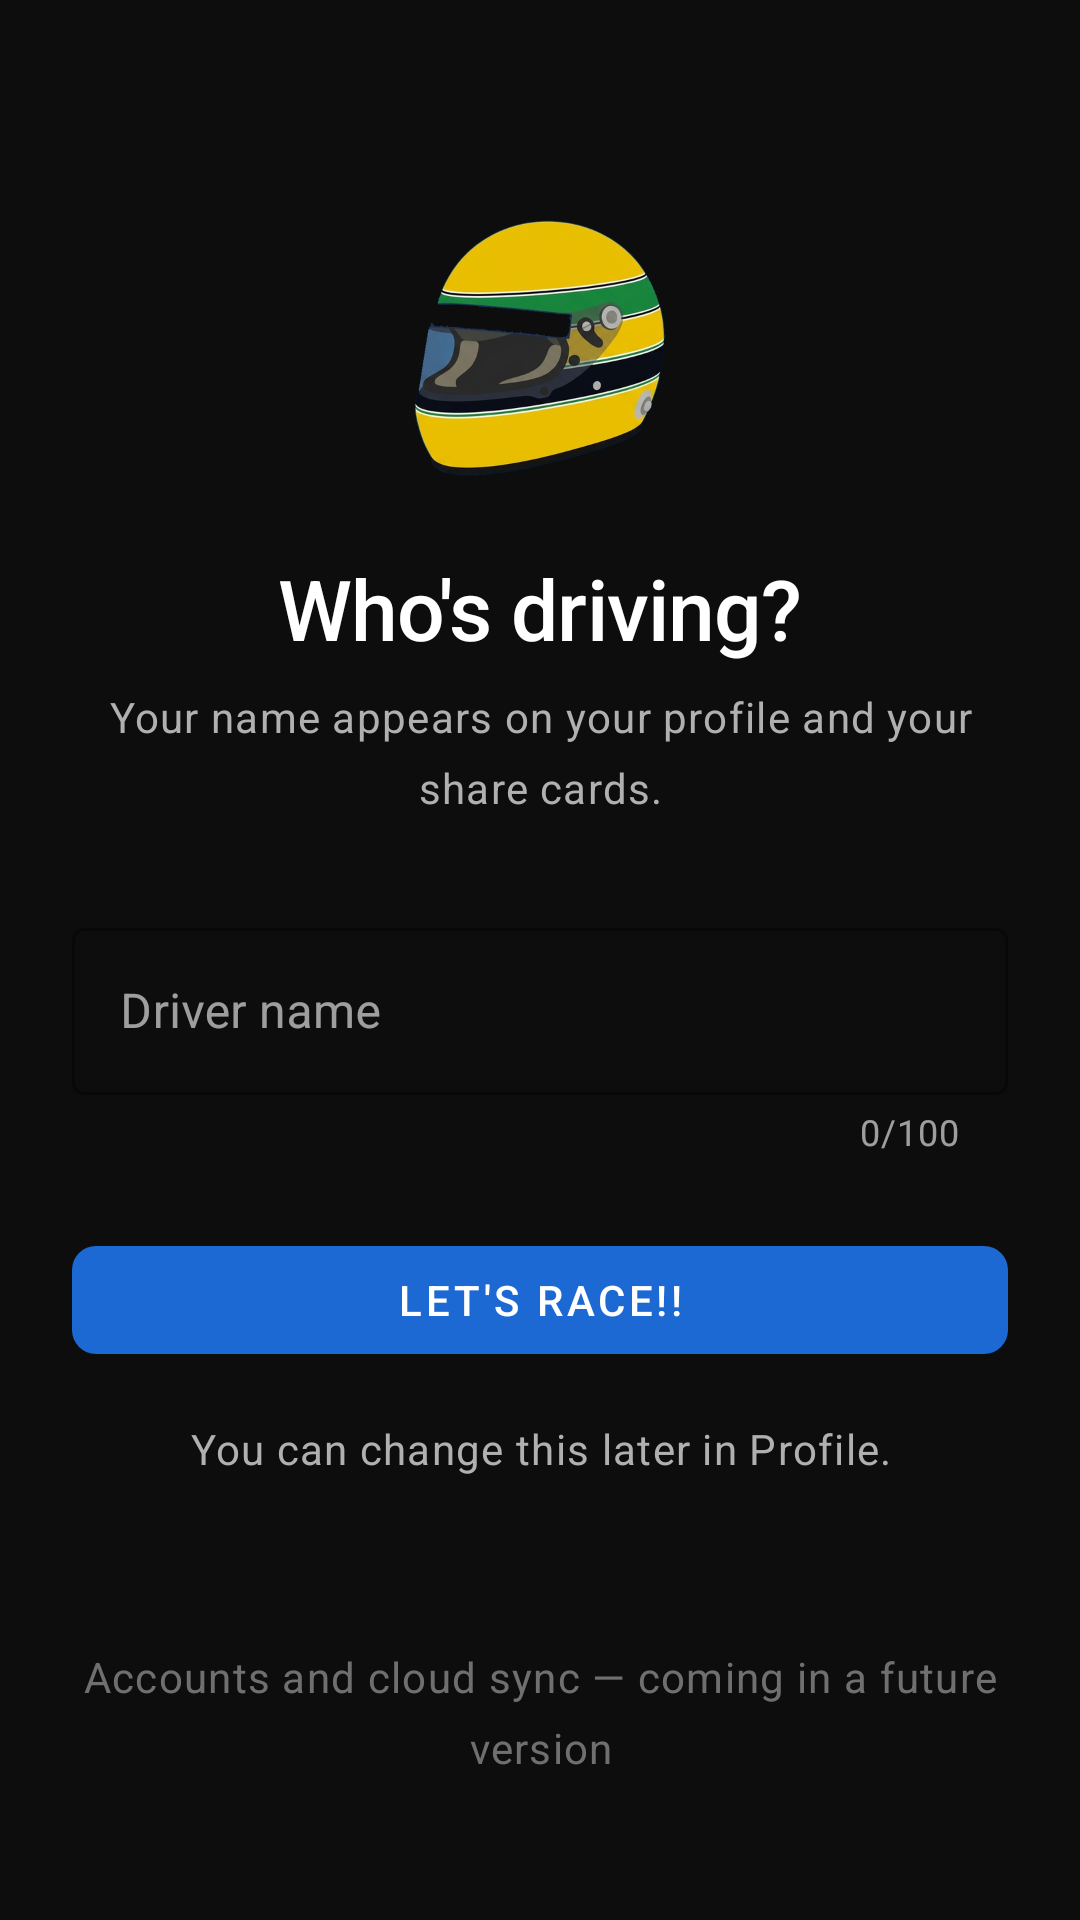

Icon bounding boxes for this 1080 × 1920 phone screenshot, format rect(x1, y1, x2, y2):
helmet emblem: rect(415, 221, 665, 475)
